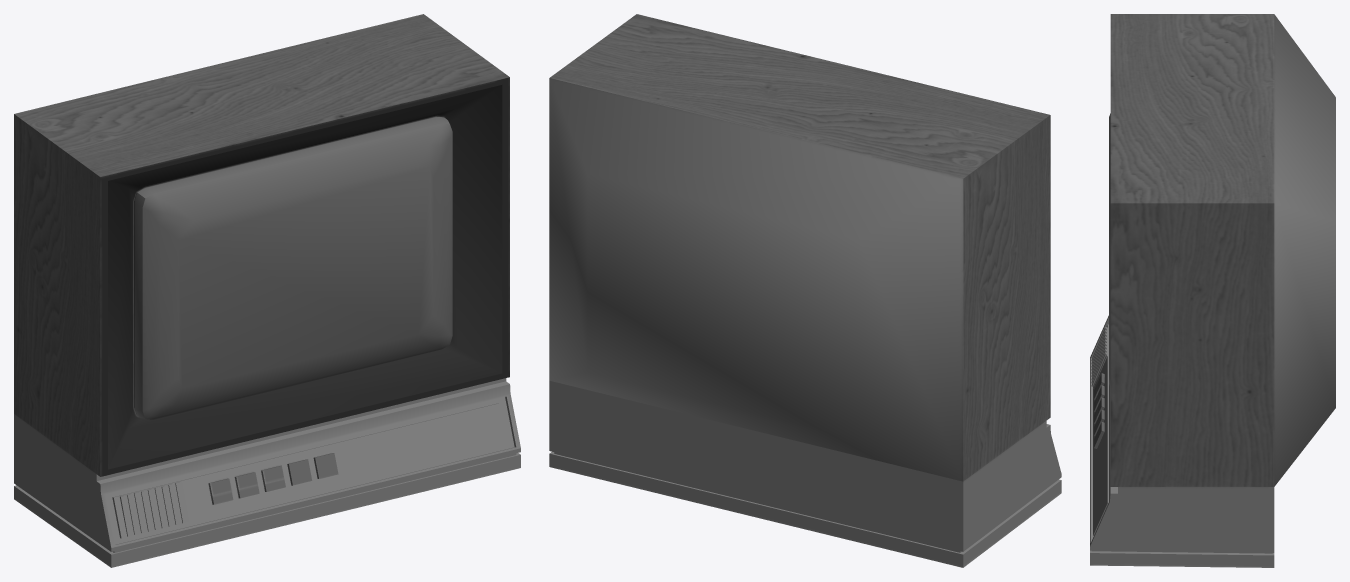
The picture shows the model from 3 angles, left to right: view 1: azimuth 30°, elevation 25°; view 2: azimuth 150°, elevation 25°; view 3: azimuth 270°, elevation 25°; orthographic projection. The views are drawn at different scales.
Visible parts, largest first — view 1: TV; view 2: TV; view 3: TV.
Part boxes in pixels (x1=…): TV: x1=14, y1=14, x2=520, y2=567; TV: x1=549, y1=14, x2=1061, y2=567; TV: x1=1090, y1=14, x2=1335, y2=567.
Bounding box in the file's own units: 28.05 × 25.21 × 15.4.
1 material, 1 textured.
